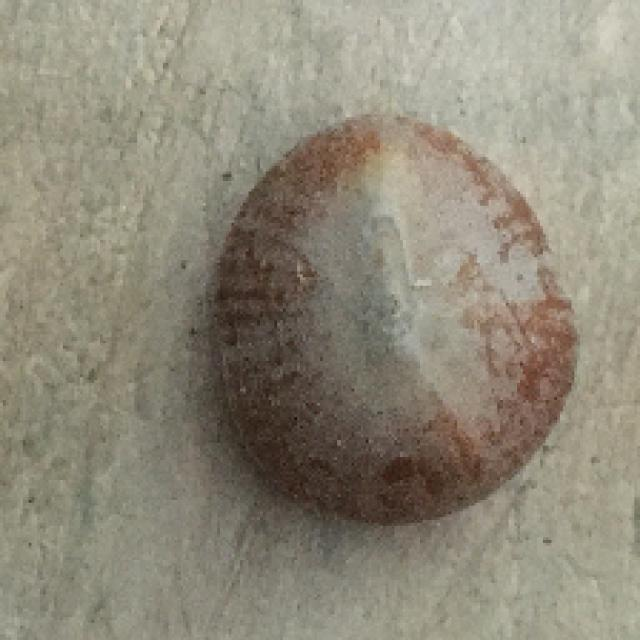QualityHazelnut: (209, 113, 576, 520)
